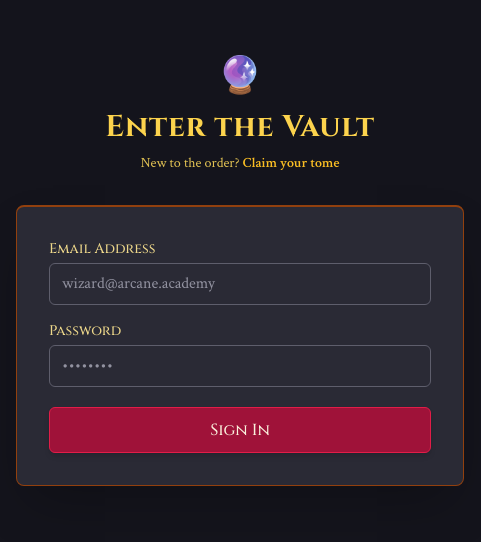
Test case: LoginPage › shows the API error message when login fails with a detail field
Type "wizard@test.com" into the field labelled "Email Address" at (240, 284), box [49,262,431,304]
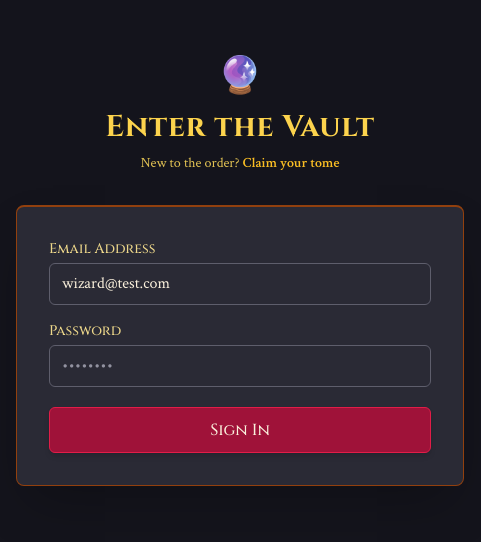
Type "wrongpassword" into the password field labelled "Password" at (240, 366), box [49,344,431,386]
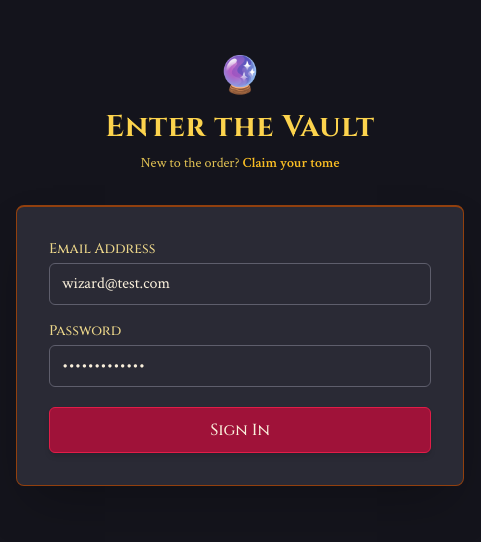
Click the button "Sign In" at (240, 430), box [49,406,431,452]
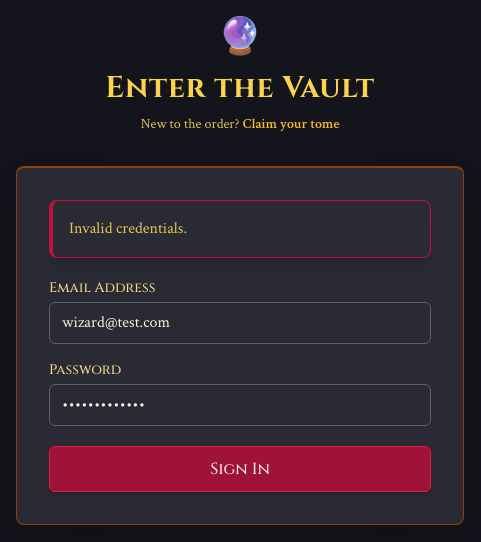
Expected: the text "Invalid credentials." is shown, [69,218,187,238]
